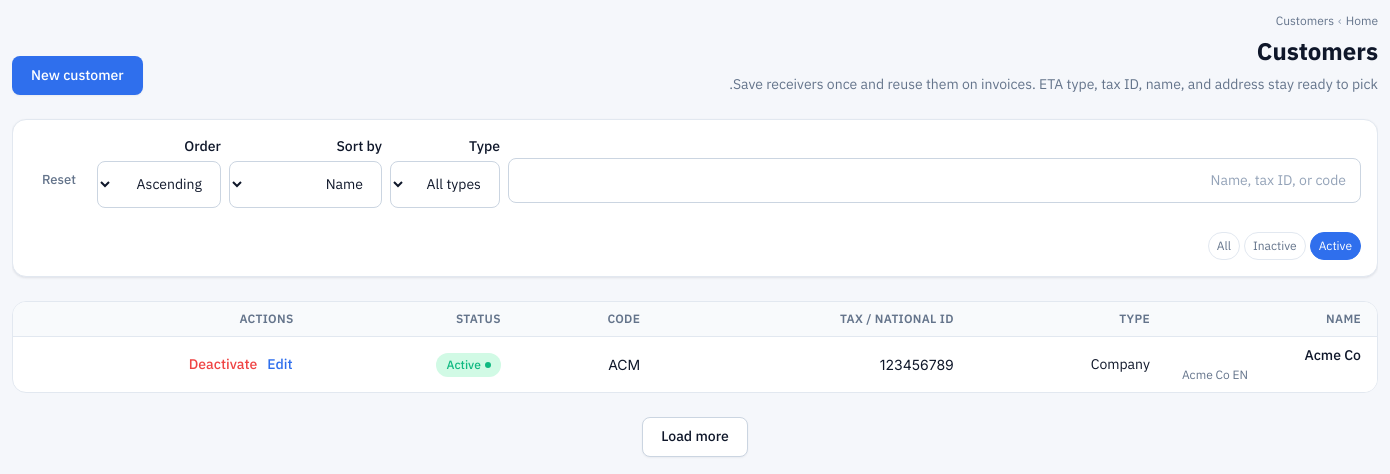
customers list › loads more with the existing cursor
The image size is (1390, 474).
Expected: the text "Acme Co" is shown, [1304,345,1361,366]
What coordinates should you click on to do the following:
click the button "Load more"
I would click on:
 (695, 437)
Its box is [642,417,748,456].
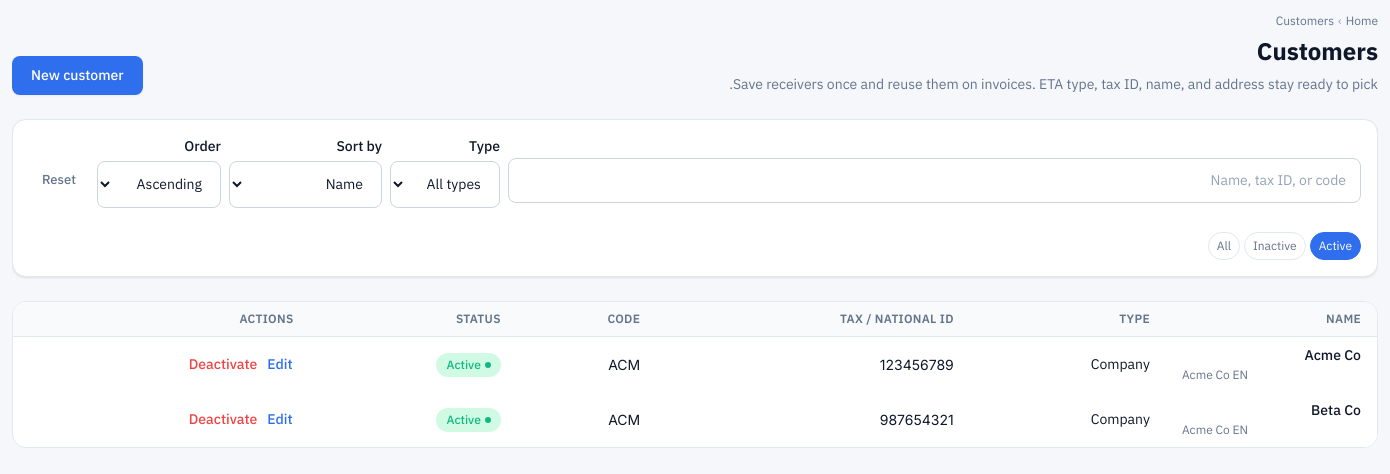
Expected: the text "Beta Co" is shown, [1311,400,1361,421]
